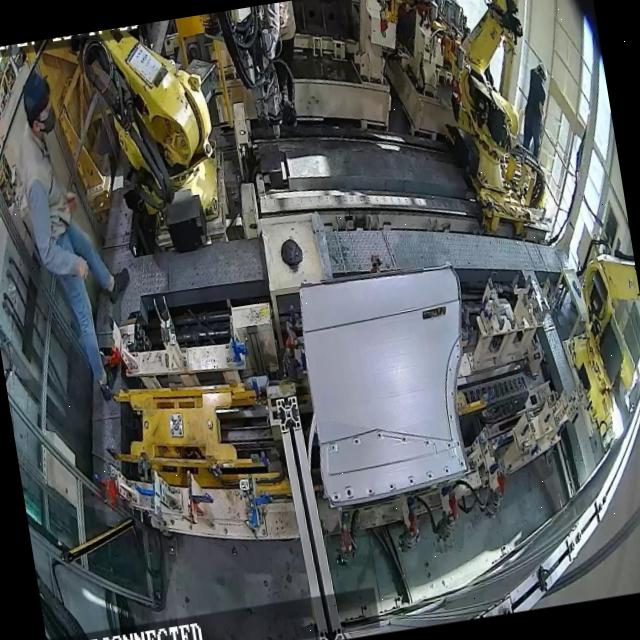Person: (0, 62, 148, 410), (254, 1, 314, 138)
